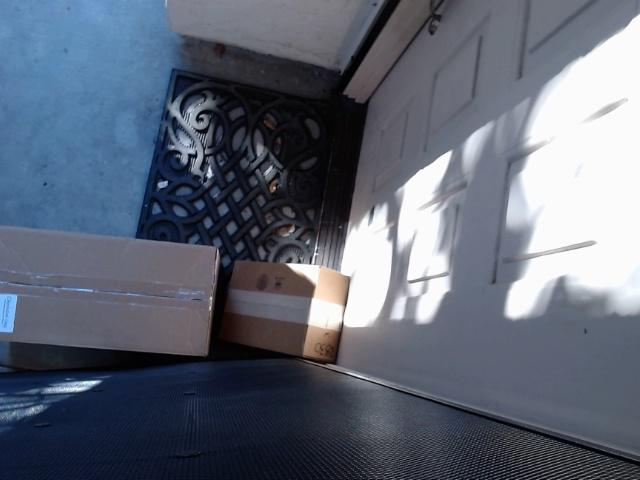box: (0, 226, 220, 357), (220, 260, 351, 362)
